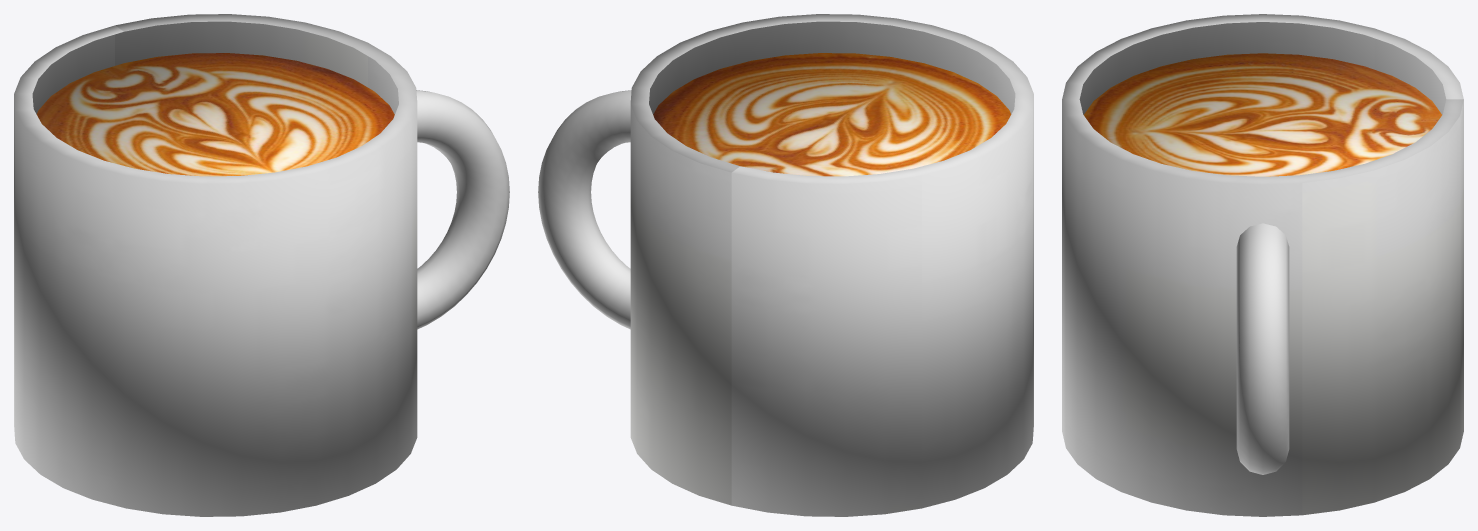
File: coffee.fbx
The picture shows the model from 3 angles, left to right: view 1: azimuth 30°, elevation 25°; view 2: azimuth 150°, elevation 25°; view 3: azimuth 270°, elevation 25°; orthographic projection.
Parts seen in each view (by area): view 1: taza de cafe, mango de la taza; view 2: taza de cafe, mango de la taza; view 3: taza de cafe, mango de la taza.
Boxes of the visible parts, x1,y1,x2,y2 form: taza de cafe: [14, 14, 417, 516]; mango de la taza: [416, 90, 509, 329]; taza de cafe: [630, 14, 1033, 516]; mango de la taza: [538, 90, 631, 329]; taza de cafe: [1062, 14, 1463, 516]; mango de la taza: [1236, 223, 1289, 474].
Size of the model in its own units: 293 by 200 by 219.
1 material, 1 textured.
